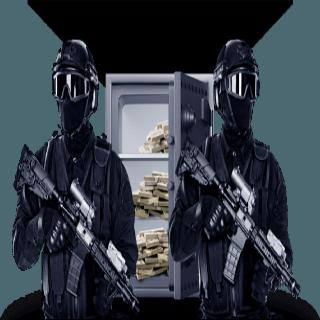CT-Body: (14, 37, 134, 319), (189, 37, 285, 319)
CT-Head: (48, 35, 102, 141), (210, 38, 260, 137)
